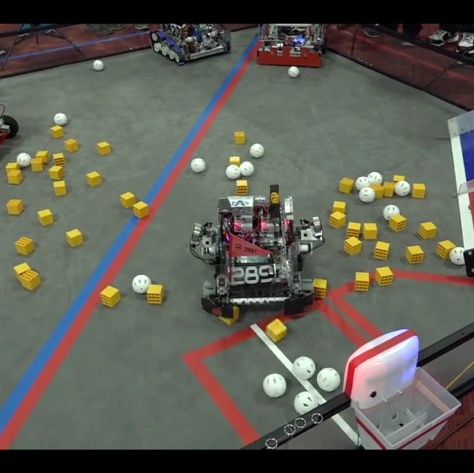robot: (191, 178, 323, 321), (146, 21, 235, 65), (256, 22, 327, 71), (0, 102, 22, 148)
